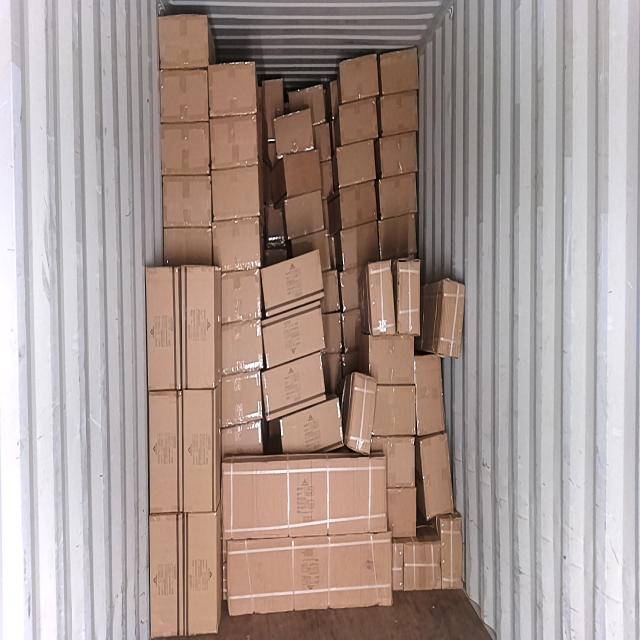carton: (229, 537, 393, 611), (221, 460, 387, 533), (150, 514, 186, 636), (149, 388, 183, 515), (146, 266, 180, 391), (181, 266, 215, 390), (182, 387, 215, 513), (260, 252, 322, 318), (184, 515, 217, 636), (279, 399, 345, 454), (266, 302, 324, 360), (262, 354, 324, 408), (158, 13, 208, 71), (208, 62, 258, 119), (162, 175, 212, 229), (162, 121, 210, 174), (368, 332, 414, 387), (212, 166, 260, 217), (211, 115, 258, 167), (213, 218, 261, 268), (221, 269, 262, 327), (161, 70, 208, 120), (374, 383, 416, 437), (416, 355, 444, 434), (349, 371, 374, 458), (221, 373, 261, 427), (222, 324, 264, 372), (426, 432, 450, 516), (440, 277, 464, 359), (340, 54, 380, 100), (164, 229, 213, 266), (403, 542, 442, 588), (339, 97, 377, 144), (378, 53, 420, 95), (368, 262, 392, 335), (397, 260, 420, 336), (341, 180, 378, 227), (378, 174, 418, 217), (277, 108, 312, 157), (380, 133, 418, 178), (339, 141, 376, 186), (285, 191, 325, 232), (284, 150, 321, 194), (342, 224, 379, 268), (379, 95, 420, 134), (384, 435, 415, 486), (388, 486, 417, 540), (380, 217, 418, 258), (442, 514, 462, 586), (222, 425, 264, 450)
